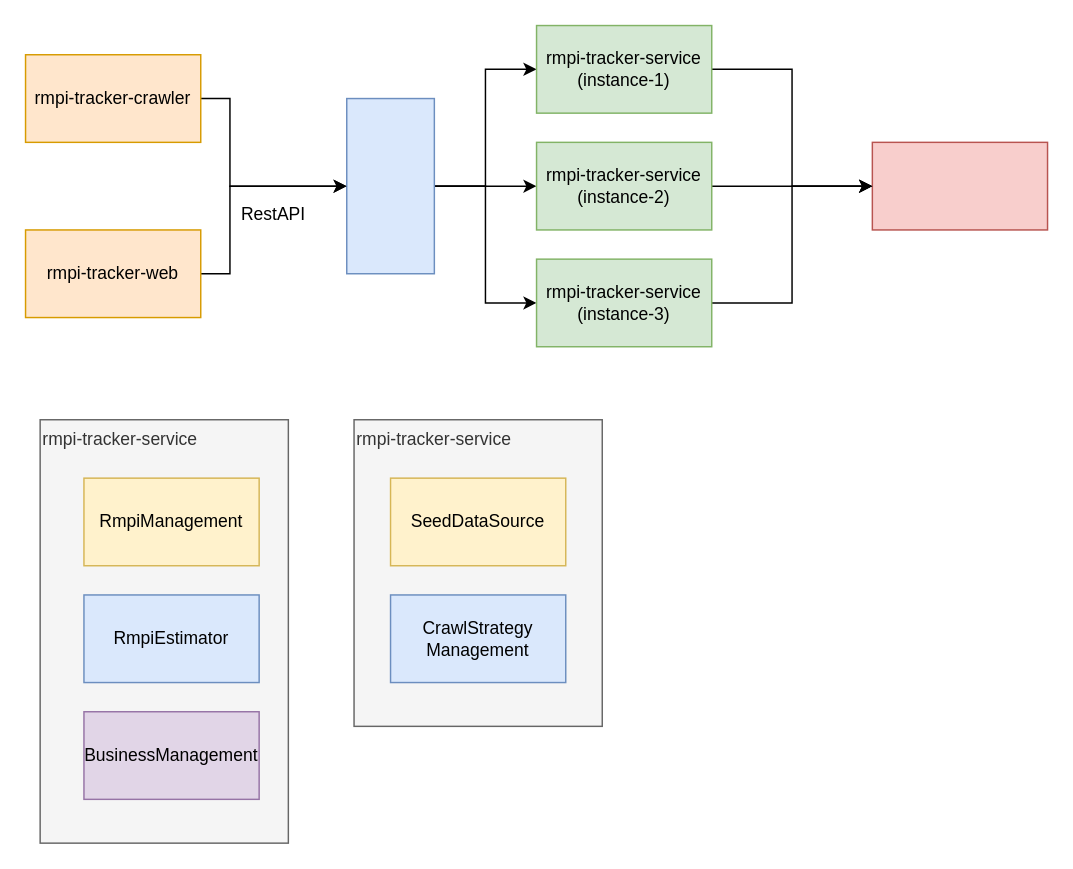
This 1073x869 diagram has some shape labels left out. Each missing label, with the centre of its shape:
load balancer HAProxy: (x=389, y=185)
rmpi-tracker-database mysql: (x=959, y=185)
